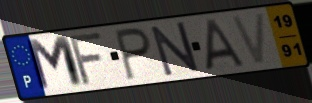A: (205, 17, 246, 73)
F: (68, 30, 106, 88)
M: (24, 33, 88, 94)
N: (148, 20, 202, 79)
P: (113, 26, 154, 83)
V: (228, 10, 268, 68)
